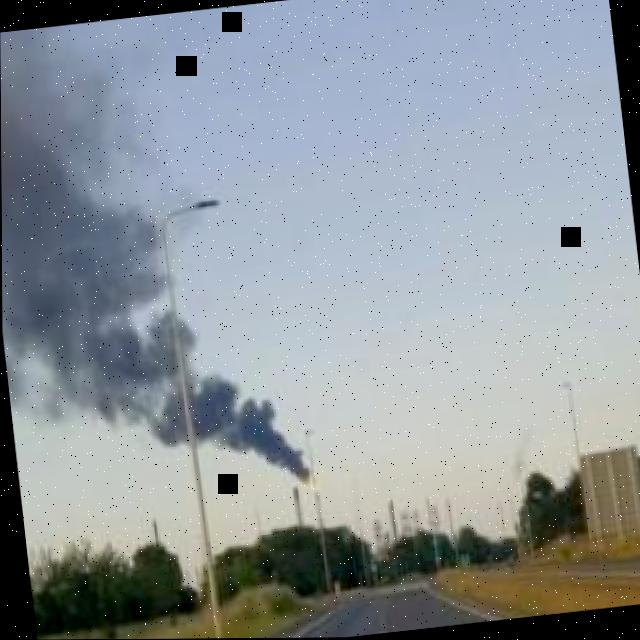fire: (304, 476, 315, 493)
smoke: (0, 27, 308, 480)
